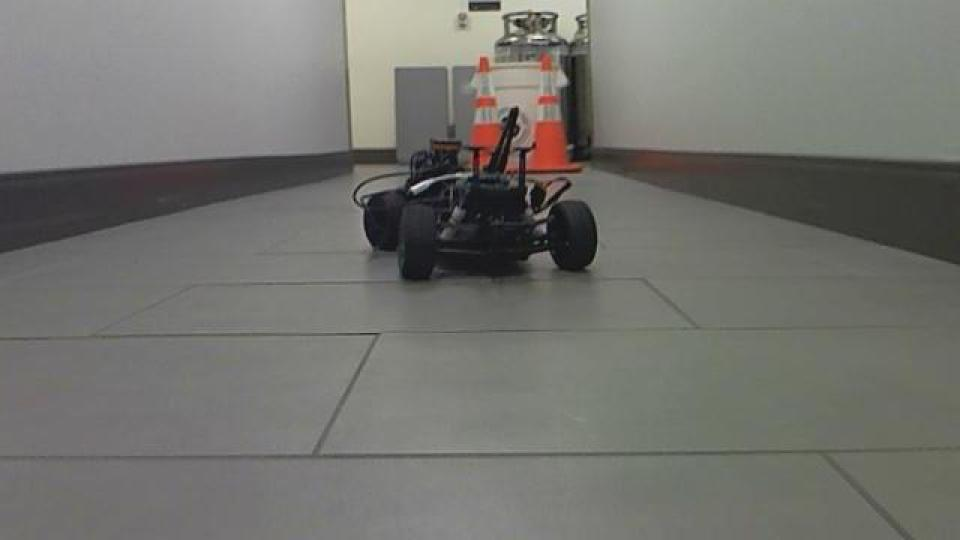car: (350, 104, 600, 284)
